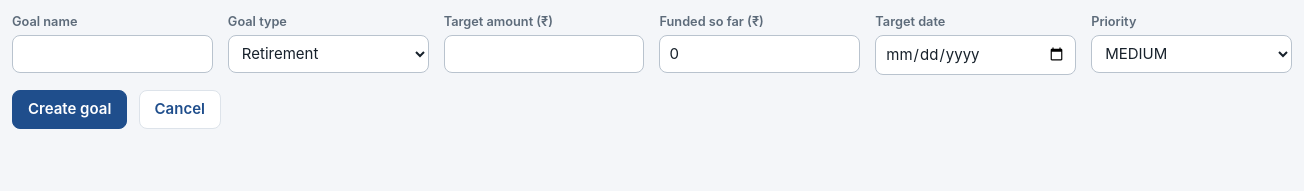
Test case: <GoalForm /> › shows inline errors and does not submit an empty form
This screenshot has width=1304, height=191.
Click the button "Create goal" at (70, 110), box [12,90,127,129]
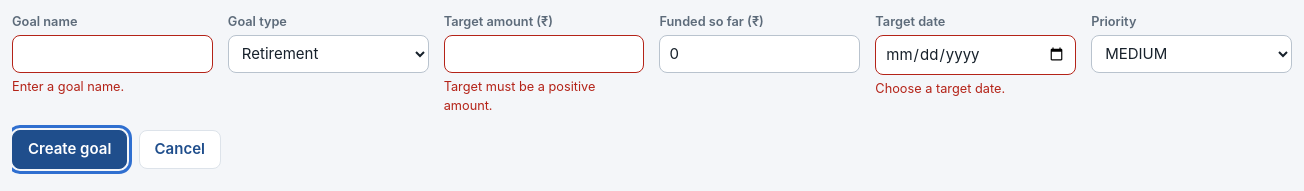
Now the text "Enter a goal name." is shown, box [12,79,124,94]
